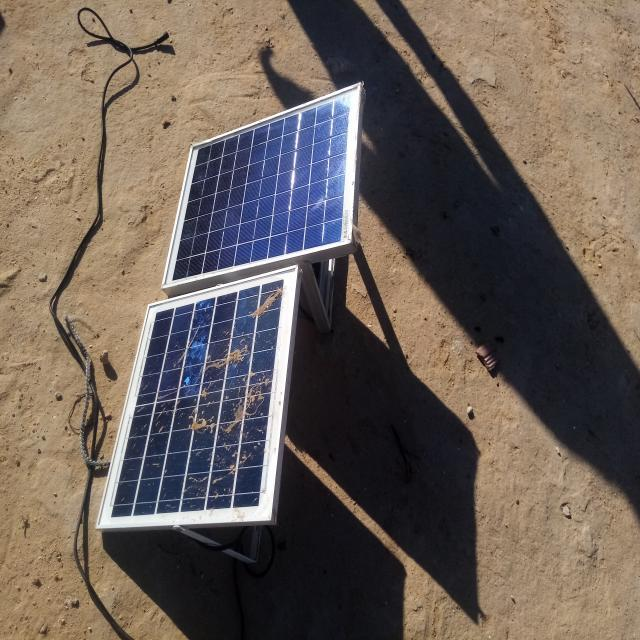faulty: (95, 267, 297, 528)
no faulty: (162, 82, 360, 285)
